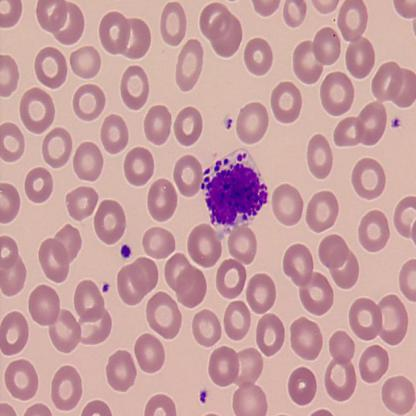Basophil: (200, 144, 270, 238)
